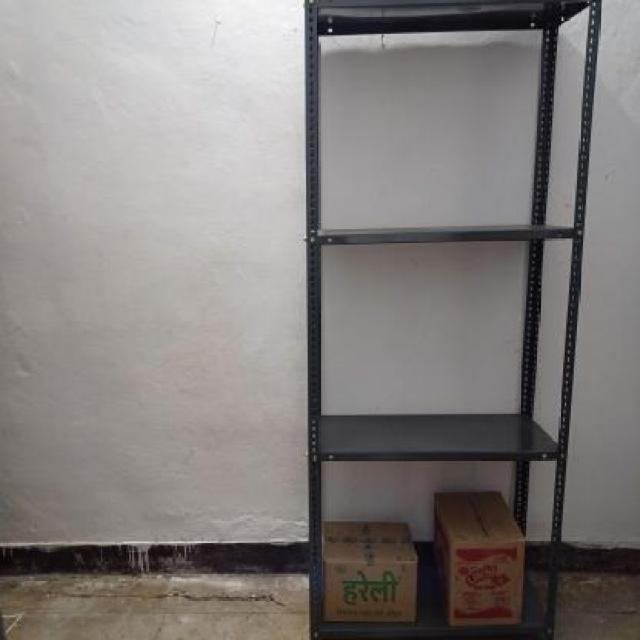box: (450, 536, 524, 624), (324, 560, 419, 626)
